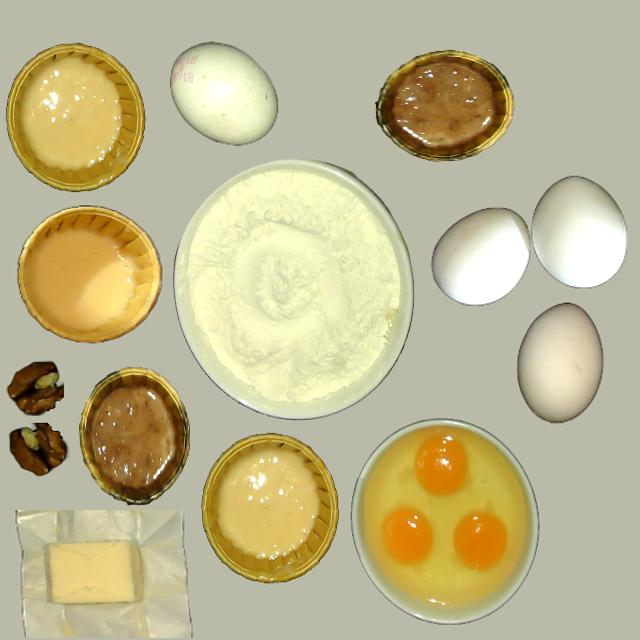Egg: (452, 511, 509, 572), (414, 435, 468, 496), (382, 506, 434, 566)
Flour: (174, 162, 399, 416)
